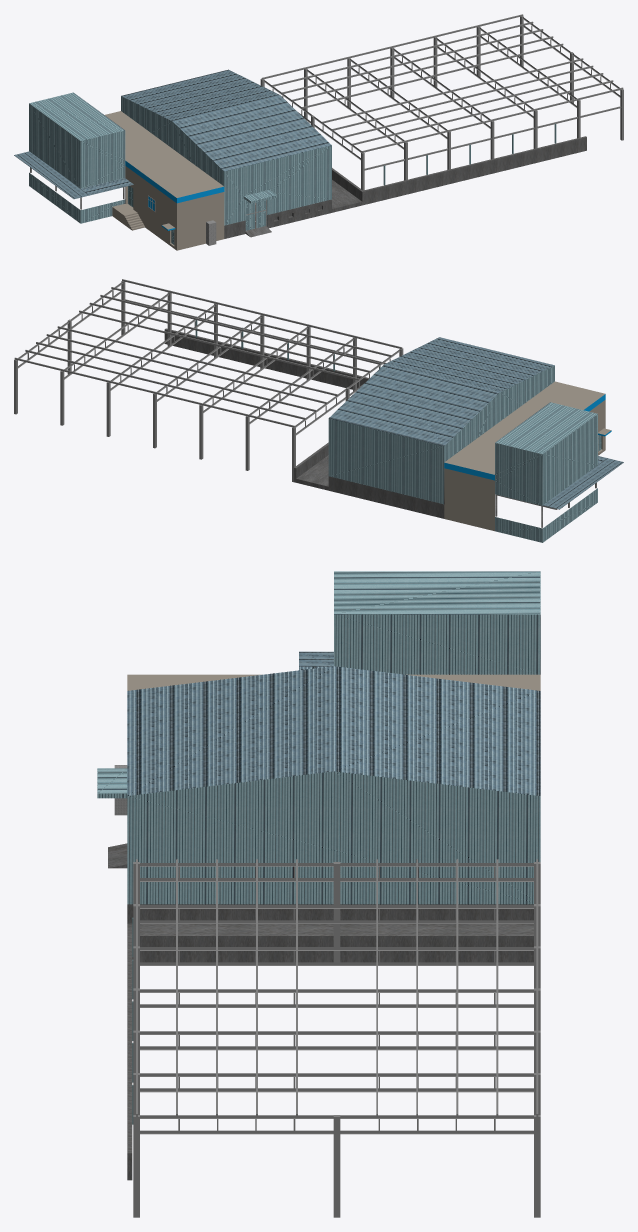
The model's file is changfang16.gltf.
3 views of the same model, one above another, from view 1: azimuth 30°, elevation 25°; view 2: azimuth 150°, elevation 25°; view 3: azimuth 270°, elevation 25° (orthographic). The views are drawn at different scales.
Parts seen in each view (by area): view 1: gongchang16_126, gongchang16_134, gongchang16_127, gongchang16_1, gongchang16_74, gongchang16_71, gongchang16_75, gongchang16_77, gongchang16_80, gongchang16_72, gongchang16_73, gongchang16_76 (+5 smaller); view 2: gongchang16_126, gongchang16_134, gongchang16_127, gongchang16_1, gongchang16_75, gongchang16_79, gongchang16_71, gongchang16_72, gongchang16_78, gongchang16_80, gongchang16_73, gongchang16_76 (+4 smaller); view 3: gongchang16_126, gongchang16_134, gongchang16_127, gongchang16_133, gongchang16_8, gongchang16_18, gongchang16_28, gongchang16_9, gongchang16_19, gongchang16_29, gongchang16_38, gongchang16_39 (+6 smaller).
Part boxes in pixels (left/top/right/bottom): gongchang16_126: left=121, top=69, right=331, bottom=238; gongchang16_134: left=29, top=92, right=224, bottom=250; gongchang16_127: left=332, top=136, right=586, bottom=205; gongchang16_1: left=14, top=151, right=133, bottom=199; gongchang16_74: left=291, top=36, right=553, bottom=101; gongchang16_71: left=261, top=14, right=523, bottom=79; gongchang16_75: left=301, top=43, right=563, bottom=108; gongchang16_77: left=352, top=80, right=613, bottom=145; gongchang16_80: left=322, top=58, right=583, bottom=123; gongchang16_72: left=271, top=21, right=533, bottom=86; gongchang16_73: left=281, top=29, right=543, bottom=94; gongchang16_76: left=362, top=87, right=623, bottom=152; gongchang16_126: left=328, top=337, right=554, bottom=518; gongchang16_134: left=444, top=381, right=611, bottom=542; gongchang16_127: left=164, top=328, right=368, bottom=482; gongchang16_1: left=543, top=456, right=623, bottom=509; gongchang16_75: left=57, top=326, right=337, bottom=396; gongchang16_79: left=89, top=302, right=369, bottom=372; gongchang16_71: left=14, top=357, right=294, bottom=427; gongchang16_72: left=25, top=350, right=305, bottom=419; gongchang16_78: left=100, top=295, right=380, bottom=364; gongchang16_80: left=79, top=310, right=359, bottom=380; gongchang16_73: left=36, top=342, right=316, bottom=411; gongchang16_76: left=122, top=279, right=402, bottom=349; gongchang16_126: left=97, top=666, right=540, bottom=923; gongchang16_134: left=127, top=571, right=540, bottom=690; gongchang16_127: left=127, top=934, right=533, bottom=1180; gongchang16_133: left=127, top=923, right=533, bottom=933; gongchang16_8: left=140, top=1130, right=533, bottom=1134; gongchang16_18: left=140, top=1088, right=533, bottom=1092; gongchang16_28: left=140, top=1046, right=533, bottom=1050; gongchang16_9: left=140, top=1115, right=533, bottom=1118; gongchang16_19: left=140, top=1073, right=533, bottom=1076; gongchang16_29: left=140, top=1031, right=533, bottom=1034; gongchang16_38: left=140, top=1004, right=533, bottom=1007; gongchang16_39: left=140, top=989, right=533, bottom=992.
Bounding box in the file's own units: 708 × 110 × 267.
8 materials, 4 textured.
